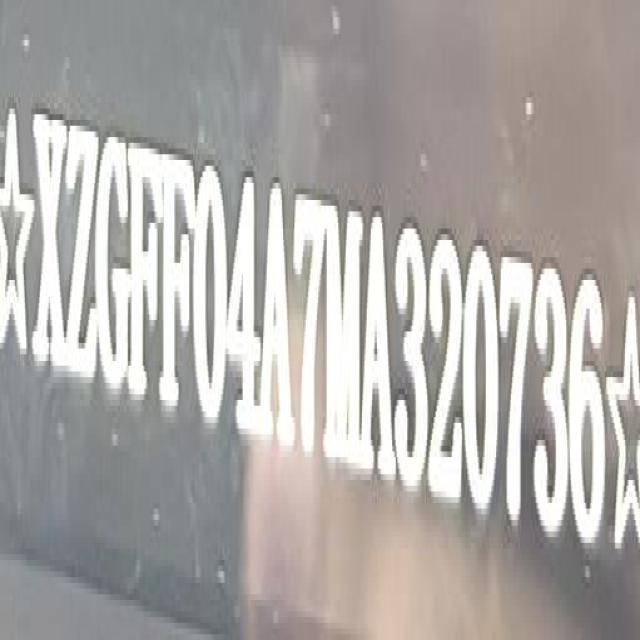0: (463, 237, 497, 522), (194, 163, 228, 434)
2: (430, 227, 464, 511)
3: (394, 221, 430, 497), (536, 264, 571, 544)
4: (227, 172, 260, 445)
6: (572, 269, 606, 555)
7: (501, 246, 533, 534), (295, 185, 327, 466)
A: (260, 180, 296, 459), (363, 211, 395, 488)
F: (130, 134, 164, 411), (162, 145, 194, 426)
G: (95, 123, 131, 400)
M: (328, 198, 365, 474)
X: (35, 102, 67, 385)
Z: (66, 116, 97, 396)
